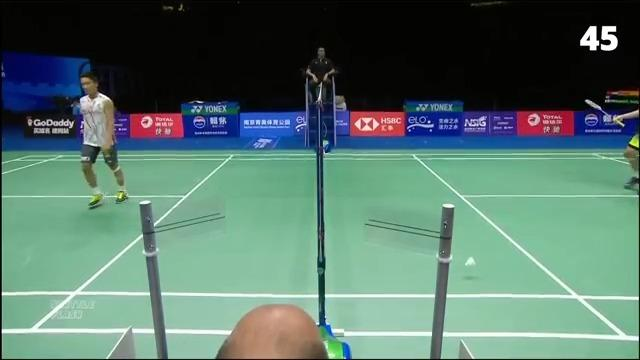Shuttlecock: (460, 254, 480, 272)
